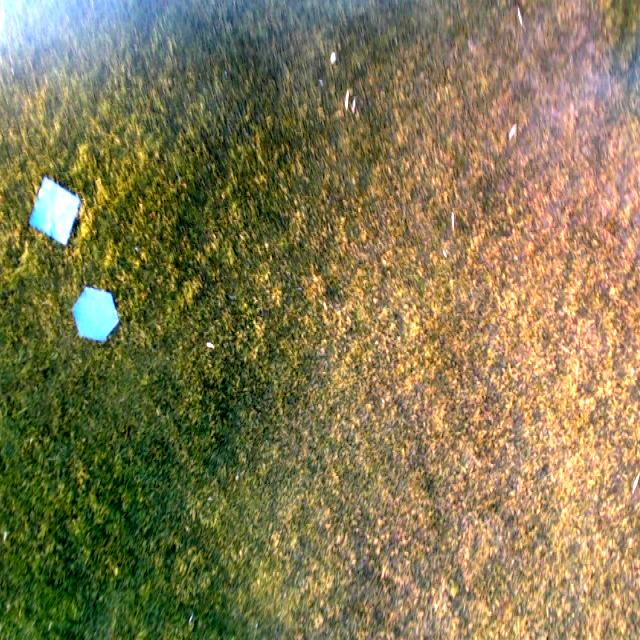blue_hexagon: (73, 286, 120, 344)
blue_square: (29, 178, 80, 246)
